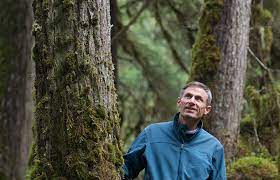person: (120, 77, 234, 180)
